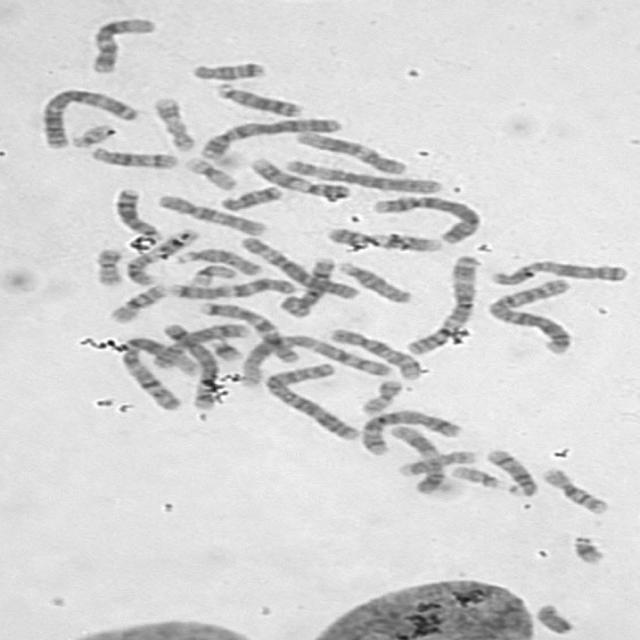A1: (230, 330, 399, 387), (111, 331, 200, 412)
A2: (258, 357, 364, 442), (480, 271, 578, 356)
A3: (398, 250, 483, 356), (32, 83, 140, 150)
B4: (191, 112, 345, 160), (364, 189, 484, 245)
B5: (154, 318, 222, 411), (353, 404, 466, 456)
C10: (322, 323, 425, 380), (148, 188, 269, 236)
C11: (118, 226, 200, 286), (384, 420, 448, 494)
C12: (287, 126, 410, 175), (82, 11, 158, 75)
C6: (232, 231, 362, 301), (276, 154, 445, 195)
C7: (190, 296, 304, 364), (163, 273, 298, 300)
C8: (147, 318, 253, 371), (272, 252, 337, 318)
C9: (241, 151, 352, 202), (318, 222, 445, 253)
D13: (207, 78, 304, 119), (106, 182, 163, 240)
D14: (479, 444, 540, 497), (82, 142, 181, 170)
D15: (330, 256, 416, 305), (168, 242, 266, 276)
E16: (533, 462, 611, 516), (101, 279, 170, 324)
E17: (146, 91, 197, 152), (390, 445, 480, 478)
E18: (212, 180, 285, 212), (183, 56, 269, 81)
F19: (178, 152, 240, 192), (181, 260, 239, 288)
F20: (353, 374, 404, 416), (87, 243, 125, 287)
G21: (564, 530, 608, 566), (200, 334, 245, 362)
G22: (444, 460, 507, 490), (64, 118, 114, 148)
X: (482, 256, 631, 286)
Y: (528, 598, 576, 635)
